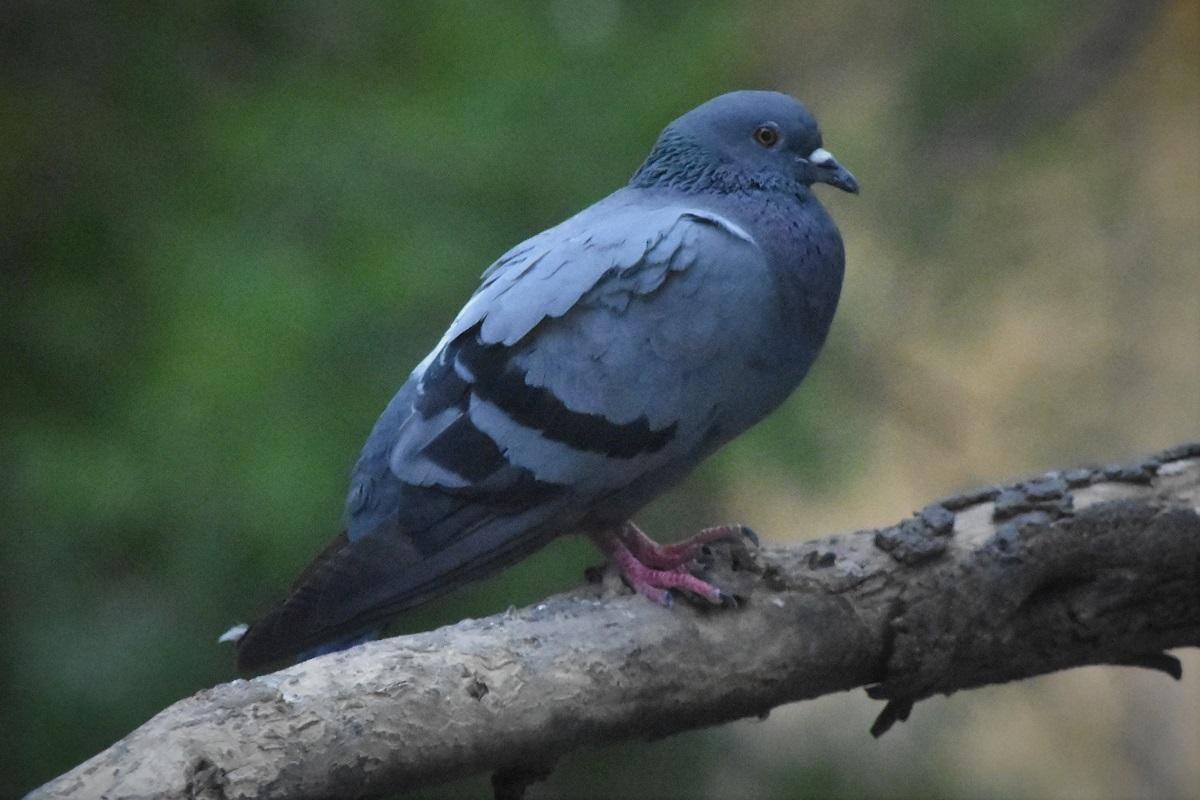Flying Rat: (213, 88, 861, 678)
